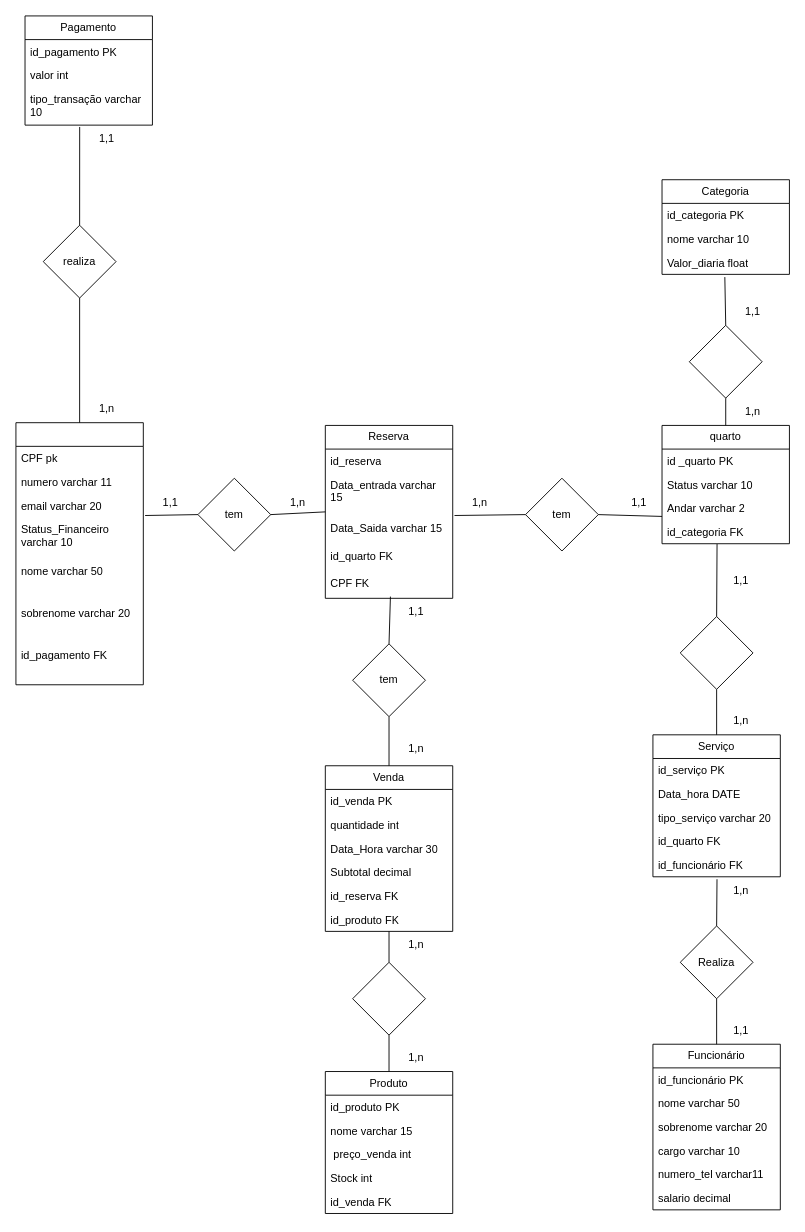
Some shapes in this 805 by 1232 pixel diagram are drawn without their labels. Each missing label, with the box of its shape:
Cliente: (15, 422, 143, 685)
estar: (352, 961, 425, 1035)
pertence: (688, 324, 762, 398)
realizar: (679, 616, 753, 689)
